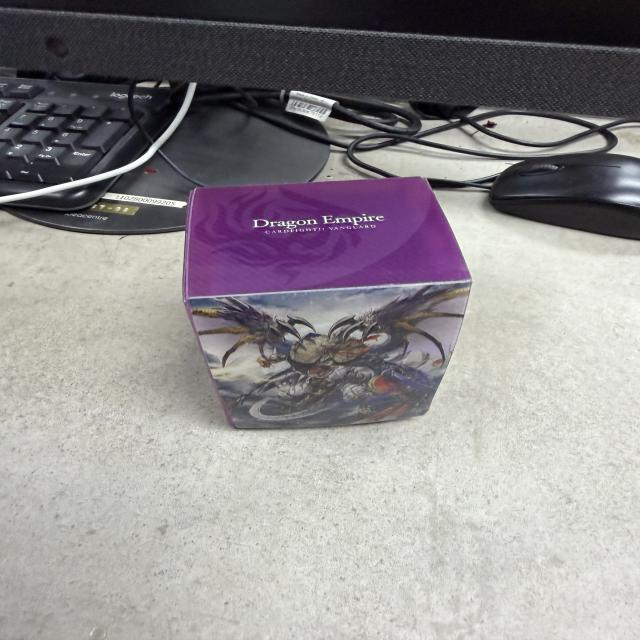box: (184, 177, 475, 434)
